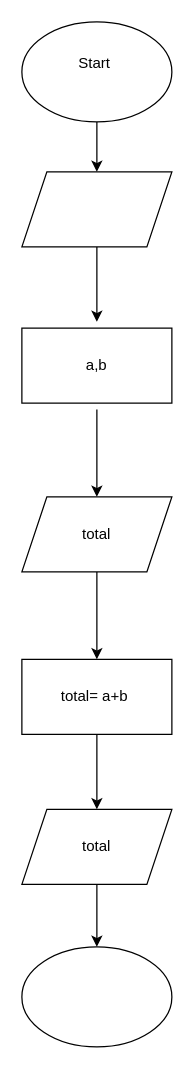
The diagram is 194 pixels wide and 1069 high, and some of its shapes have lost their labels. Here are the shapes that lost their labels. From the top down, the centre of each, then its label:
point (96, 209): a , b
point (96, 996): End
